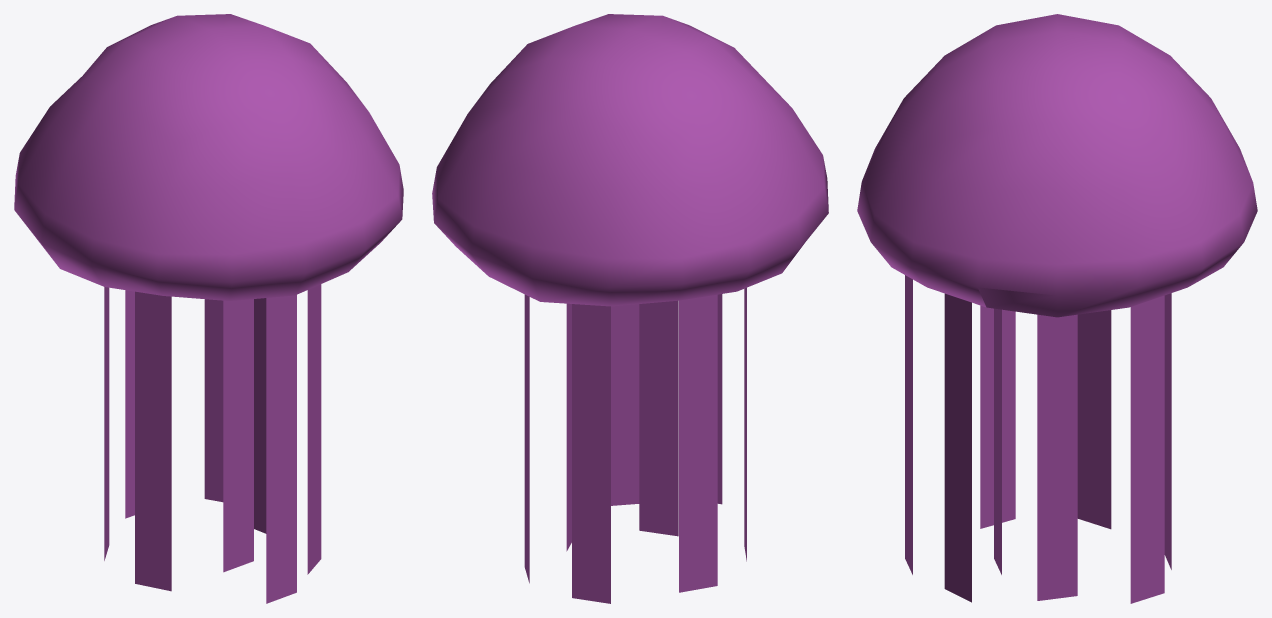
The model's file is Jellyfish_Mesh.fbx.
3 renders of one model, left to right at view 1: azimuth 30°, elevation 25°; view 2: azimuth 150°, elevation 25°; view 3: azimuth 270°, elevation 25°, orthographic. The views are drawn at different scales.
Visible parts, largest first — view 1: Jellyfish_Mesh; view 2: Jellyfish_Mesh; view 3: Jellyfish_Mesh.
Part boxes in pixels (bbox=[...]): Jellyfish_Mesh: bbox=[14, 14, 403, 603]; Jellyfish_Mesh: bbox=[432, 14, 828, 603]; Jellyfish_Mesh: bbox=[857, 14, 1257, 603].
Size of the model in its own units: 6.13 by 9.07 by 6.13.
